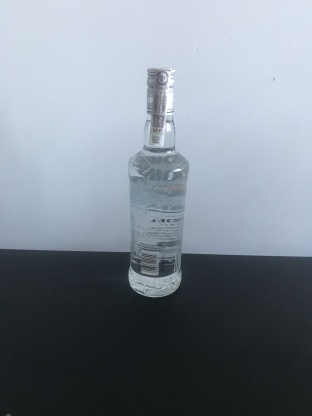nakretka: (143, 64, 177, 119)
